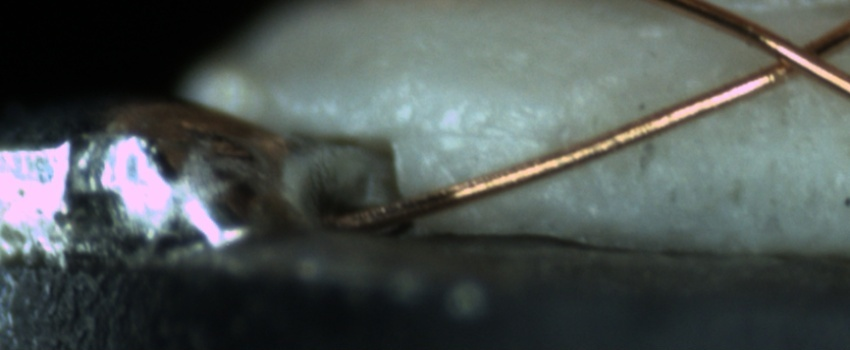CL: (741, 20, 846, 92)
DL: (401, 106, 554, 170)
